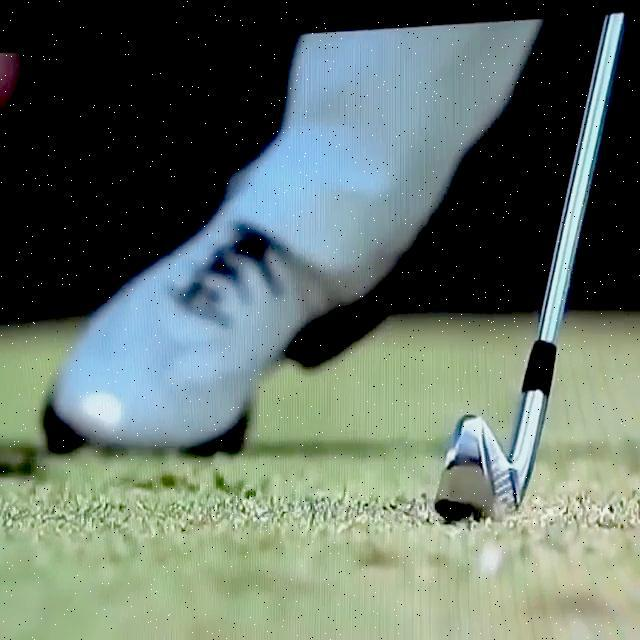golf club-handle: (416, 7, 629, 536)
golf club-head: (431, 405, 509, 533)
